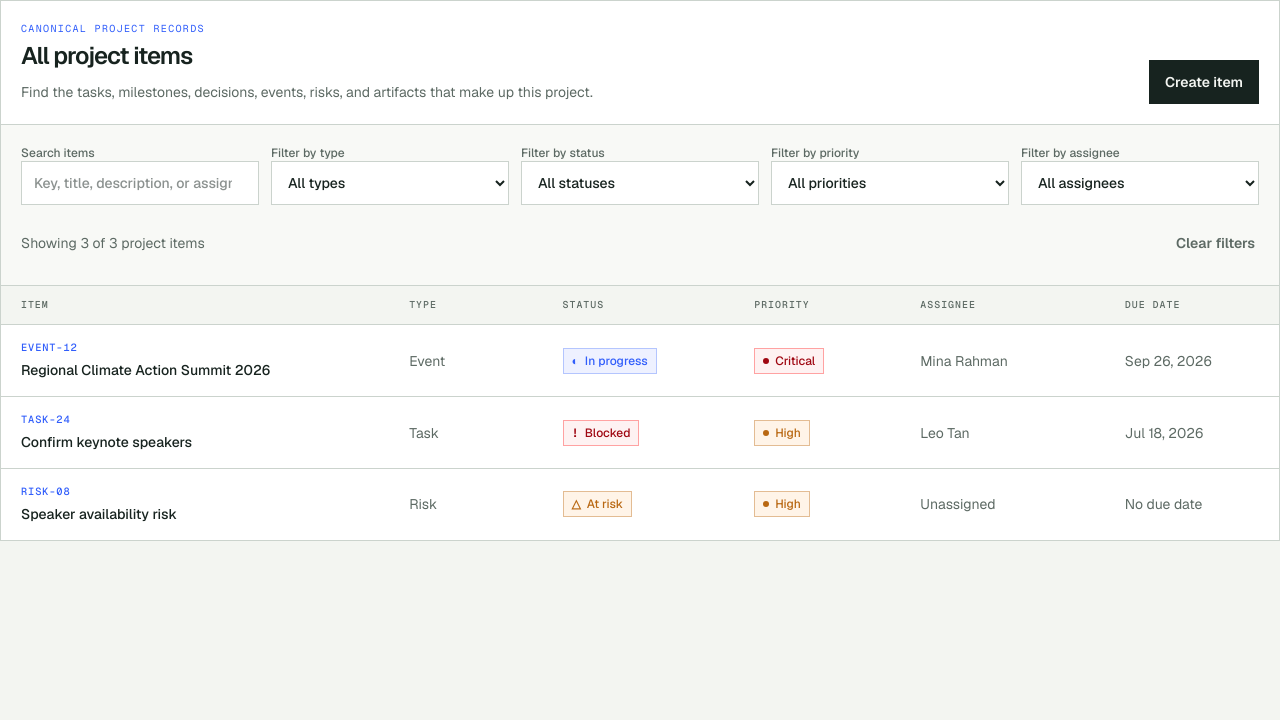
Scenario: ProjectItemsView › filters by search and select controls, then clears every filter
Expected: the message reads "Showing 3 of 3 project items", [21,233,205,253]
Type "speaker" into the search field labelled "Search items".
click(140, 183); type("speaker")  # box [21,161,259,205]
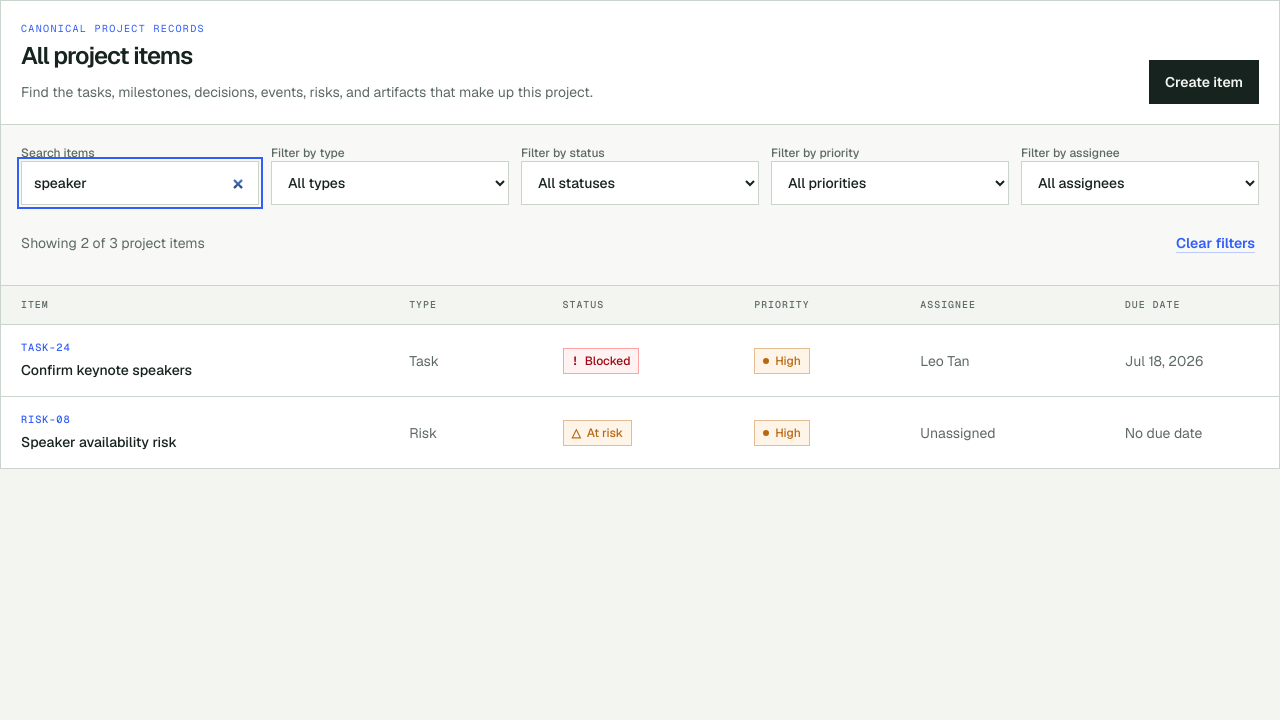
Now the message reads "Showing 2 of 3 project items", box [21,233,205,253]
Now the link "Regional Climate Action Summit 2026" is gone
Select "Risk" in the dropdown labelled "Filter by type" at (390, 183), box [271,161,509,205]
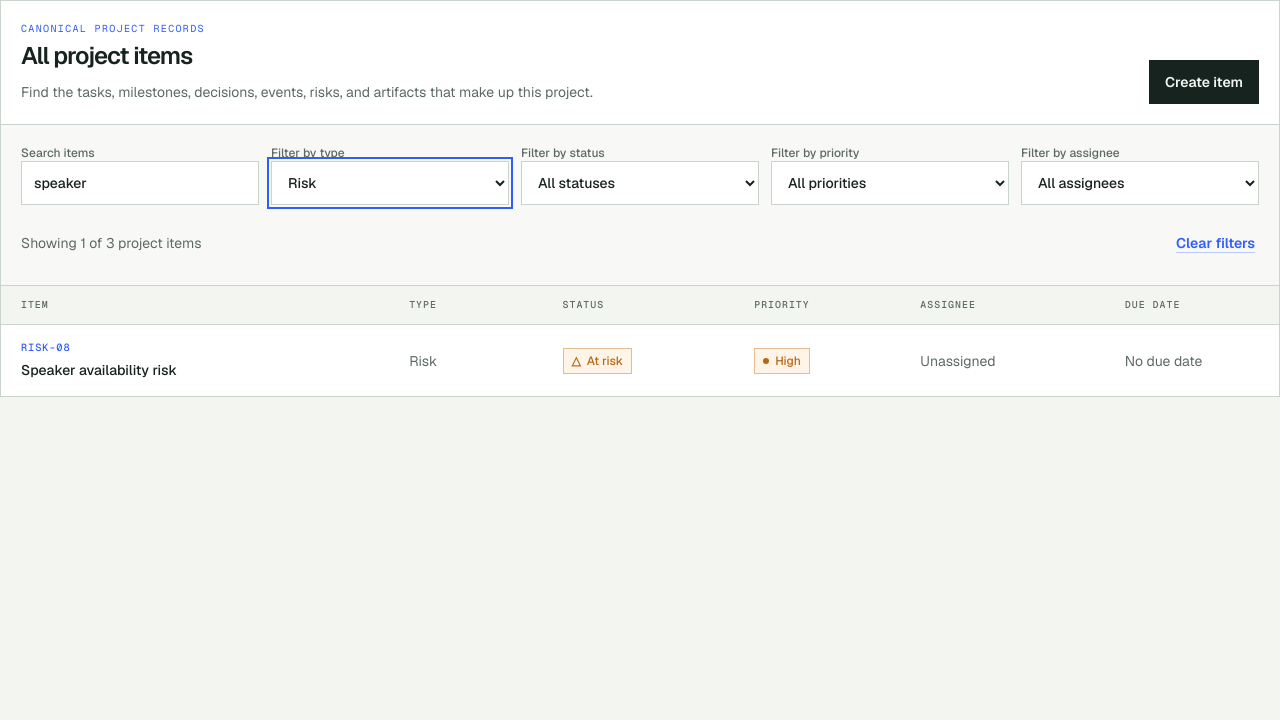
Select "Unassigned" in the dropdown labelled "Filter by assignee" at (1140, 183), box [1021,161,1259,205]
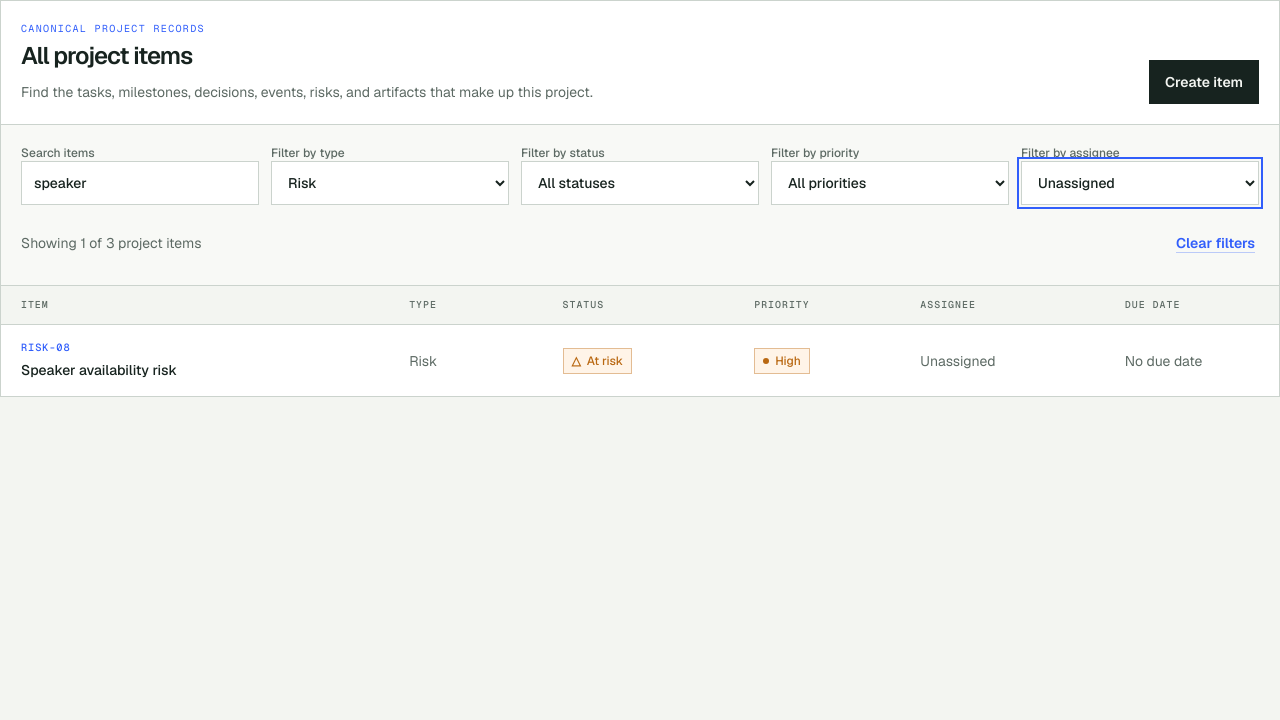
Now the message reads "Showing 1 of 3 project items", box [21,233,202,253]
Now the number of links "RISK-08 Speaker availability risk" is 2
Click the button "Clear filters".
click(1216, 243)  # box [1172,221,1259,265]
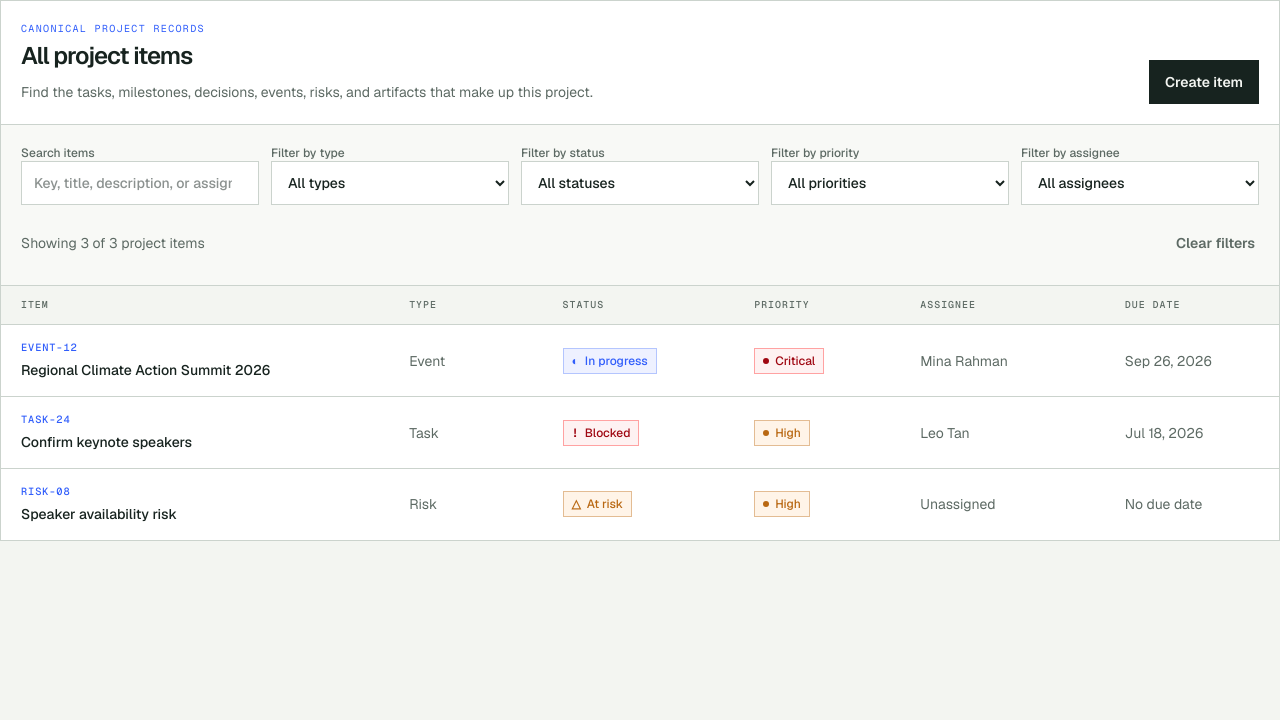
Now the search field labelled "Search items" is empty, box [21,161,259,205]
Now the message reads "Showing 3 of 3 project items", box [21,233,205,253]
